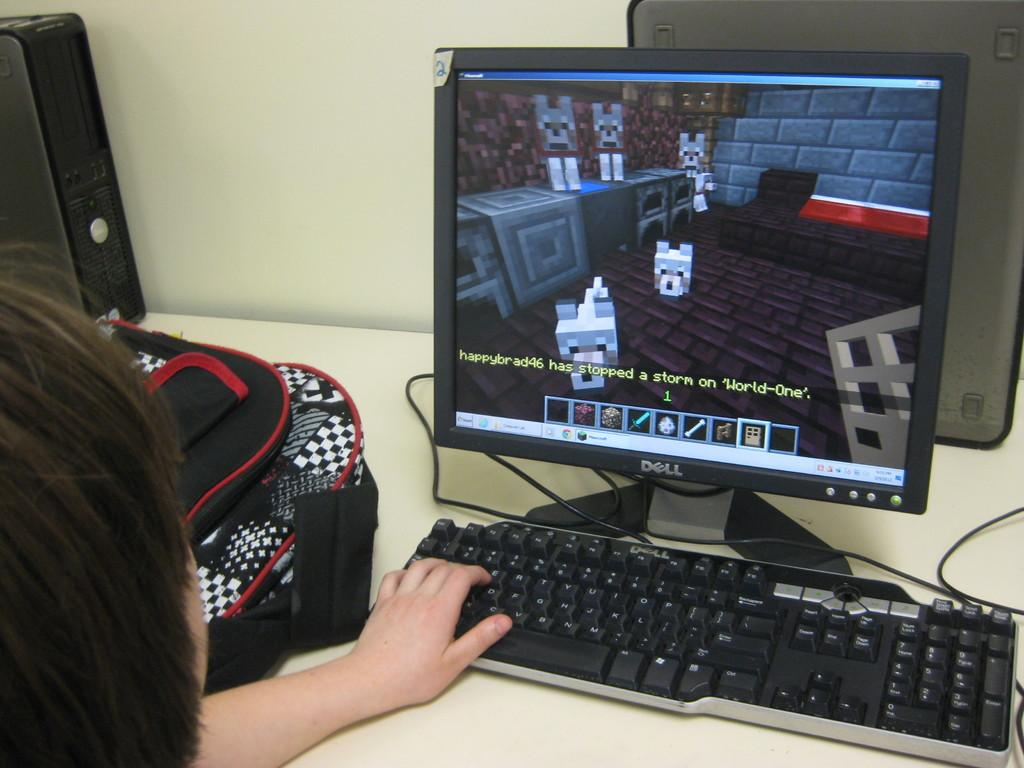Computer-keyboard: (402, 452, 1017, 767)
Computer-monitor: (429, 40, 969, 572)
